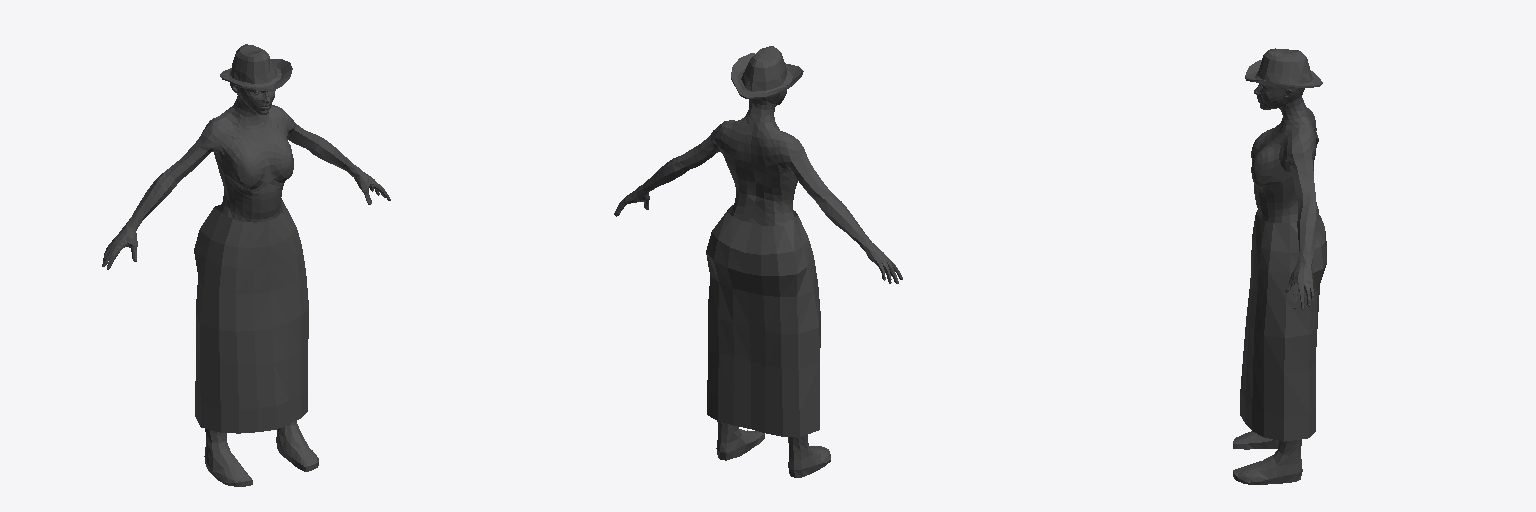
File: character03.obj
3 renders of one model, left to right at view 1: azimuth 30°, elevation 25°; view 2: azimuth 150°, elevation 25°; view 3: azimuth 270°, elevation 25°, orthographic.
Visible parts, largest first — view 1: pCylinder6; view 2: pCylinder6; view 3: pCylinder6.
Boxes of the visible parts, <box> form: pCylinder6: <box>102,44,390,486</box>; pCylinder6: <box>614,46,902,477</box>; pCylinder6: <box>1233,48,1326,484</box>.
Bounding box in the file's own units: 14.67 × 20.24 × 4.19.